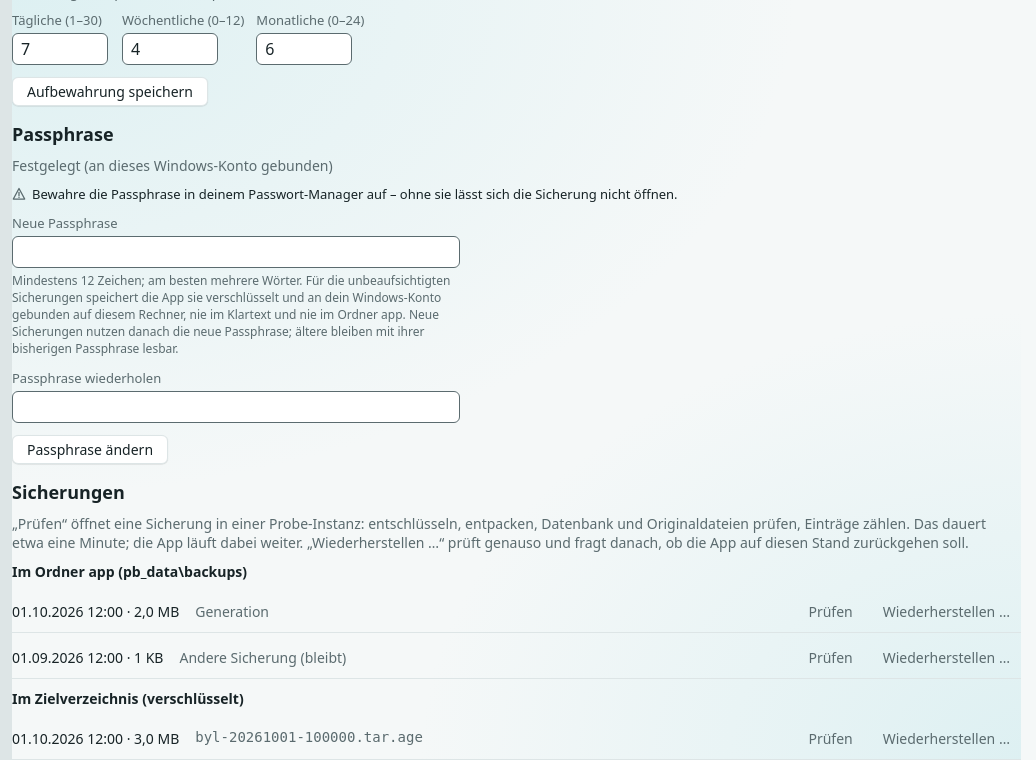
page Sicherung › gives the focus back to "Prüfen" when the question for the passphrase is cancelled
(page scrolled)
Click the button with aria-label "Sicherung vom 01.10.2026 12:00 im Zielverzeichnis prüfen": (831, 738) [797, 722, 864, 755]
(page scrolled)
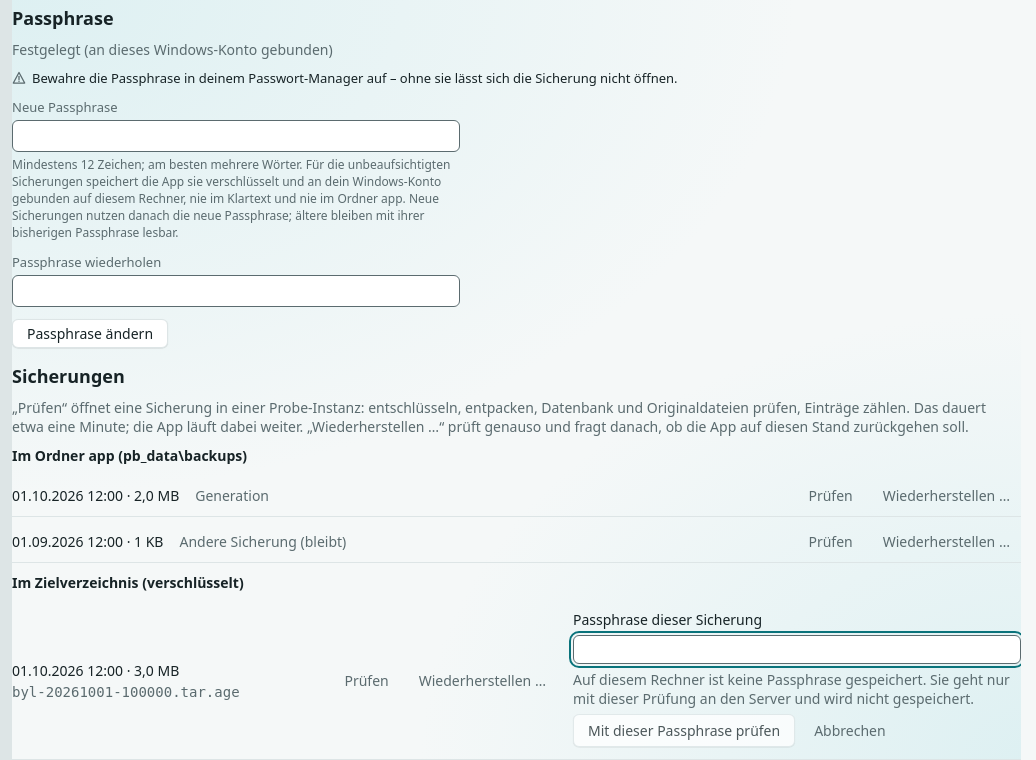
Click the button "Abbrechen": (850, 730) [803, 714, 897, 747]
(page scrolled)
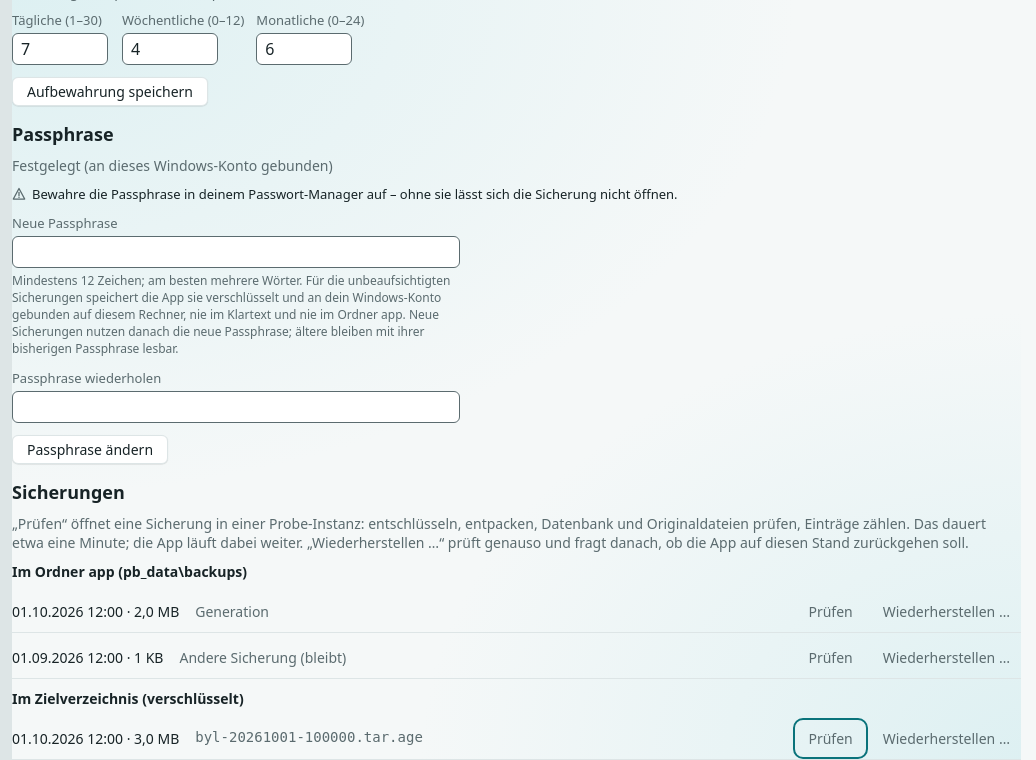
Check: the label labelled "Passphrase dieser Sicherung" is gone
